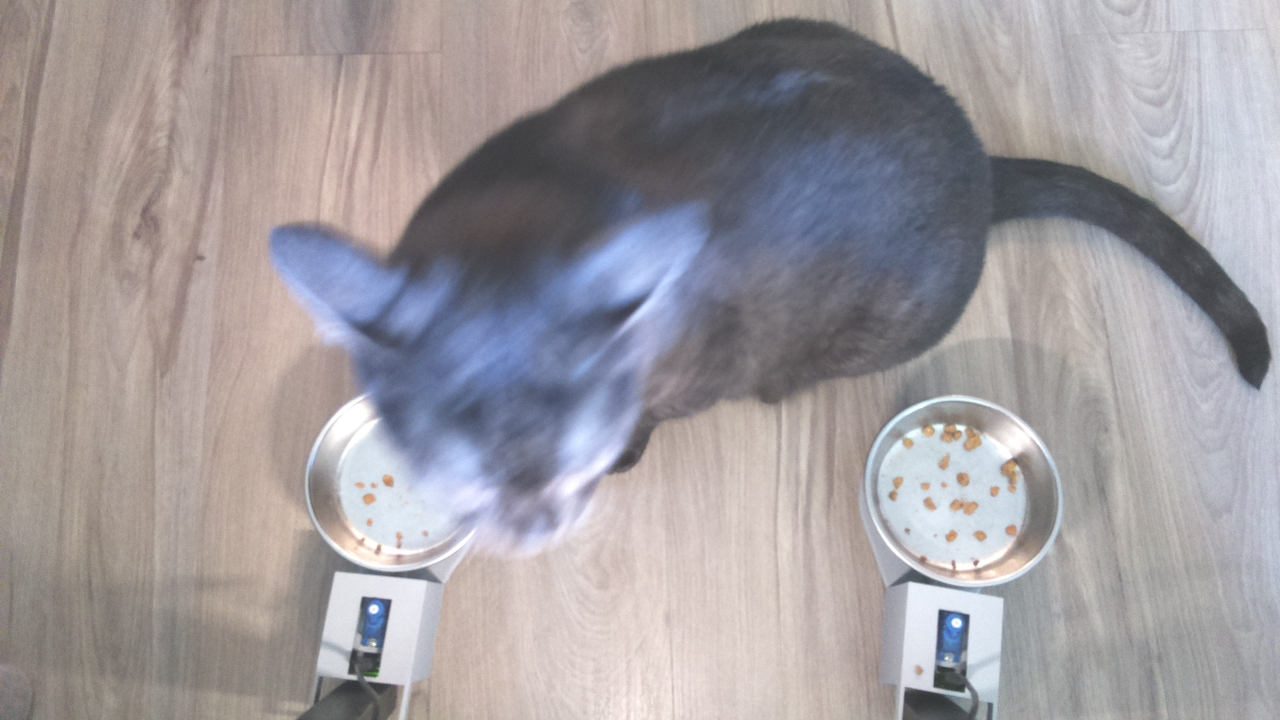open_bowl: (861, 391, 1062, 590)
